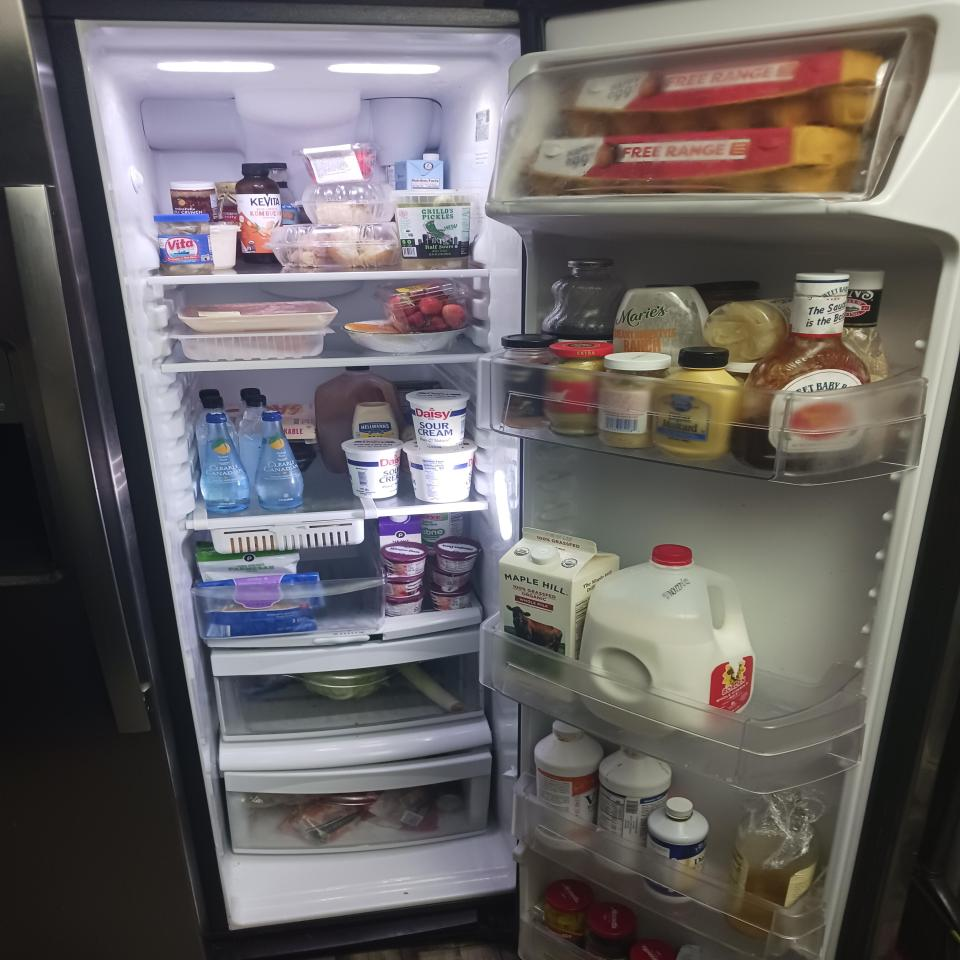Carne pollo: (170, 328, 335, 360)
Huevos: (558, 48, 884, 138), (524, 126, 866, 198)
Leche: (580, 544, 756, 738), (495, 526, 621, 702)
Lechuga/Endivia: (303, 666, 388, 700)
Yogur: (403, 438, 478, 504), (405, 390, 471, 450), (341, 437, 404, 498)
Zanahoria: (279, 804, 359, 844)
